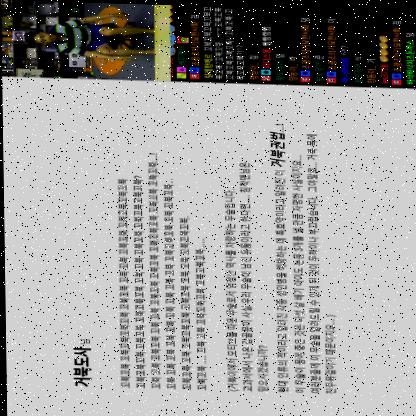streamer: (22, 9, 154, 62)
